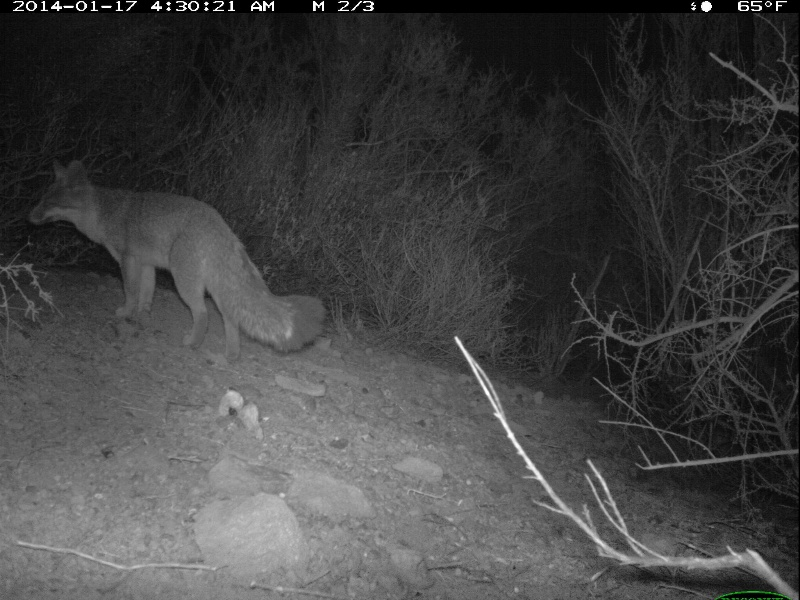fox: (25, 156, 332, 366)
